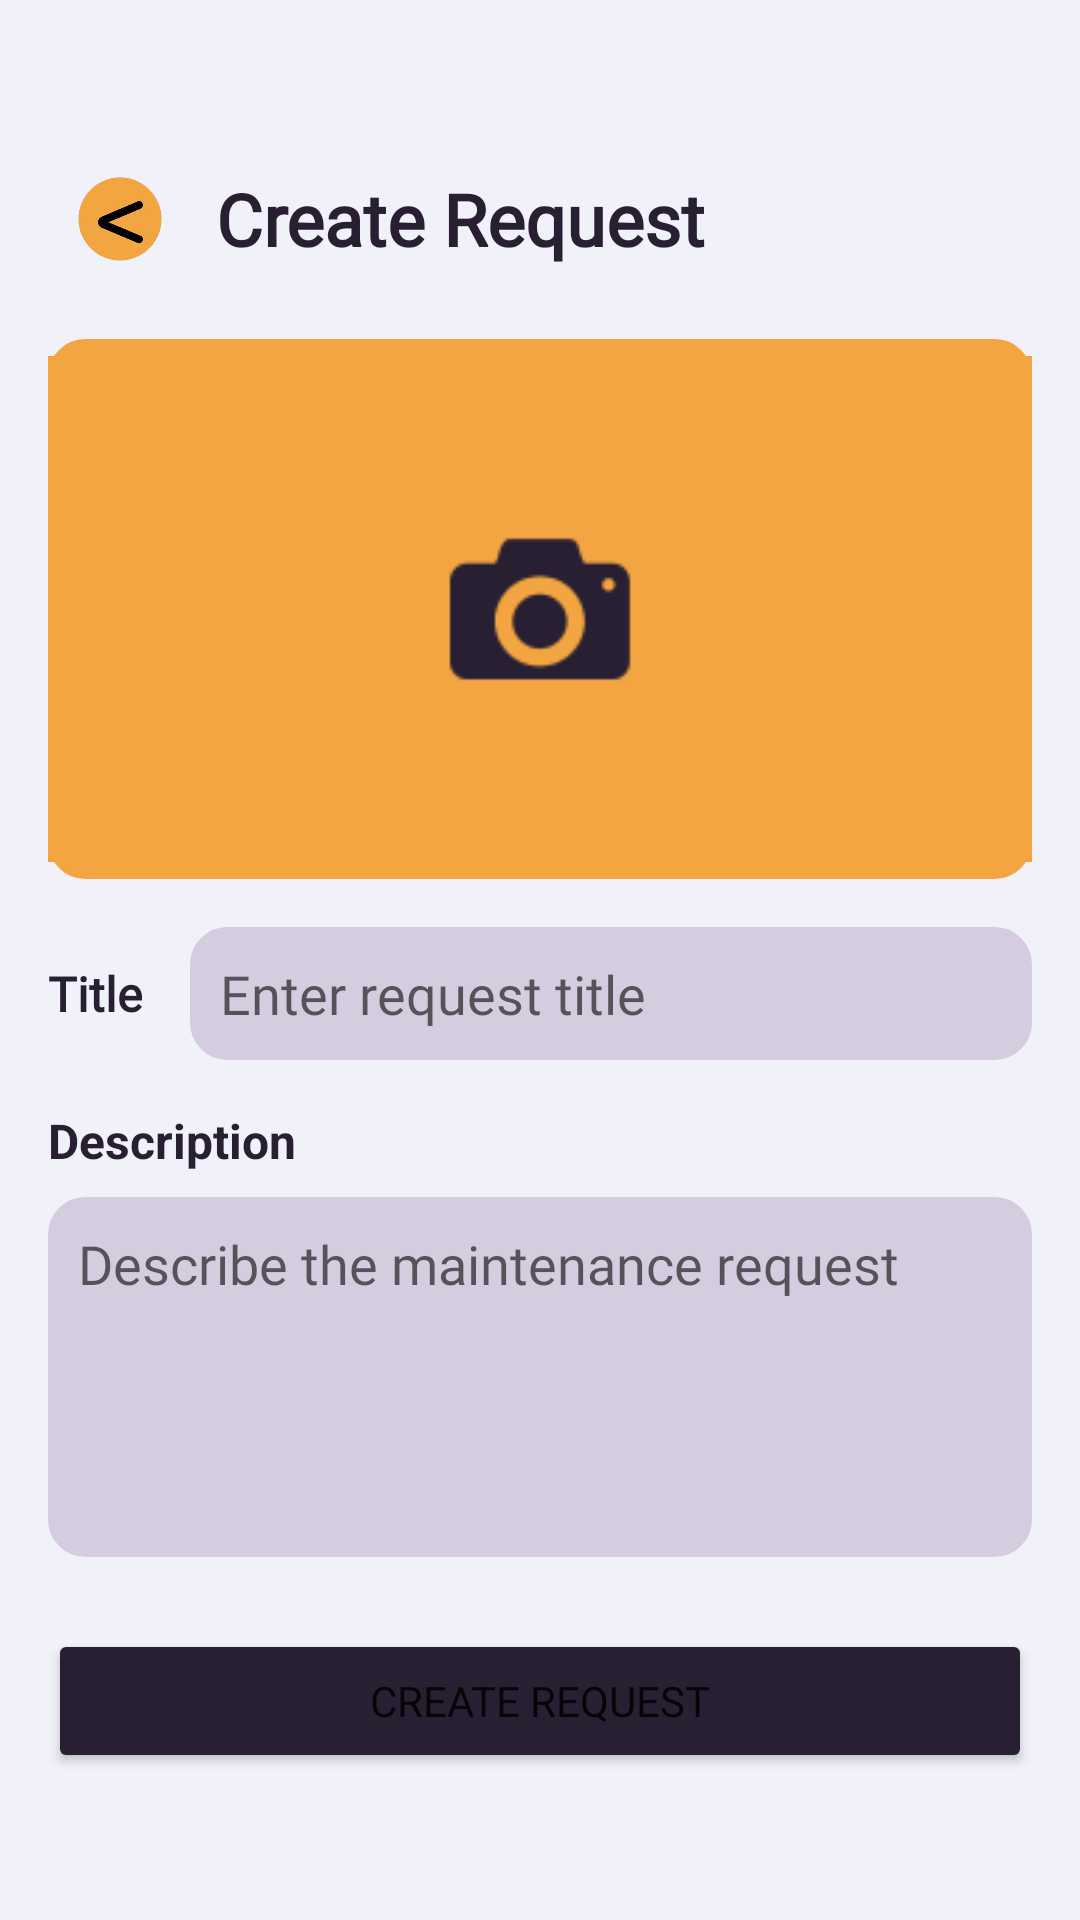

Screen size 1080px×1920px. Icon name, then its box in pixels as (x1, y1, x2, y2):
Back Button: (78, 177, 162, 261)
